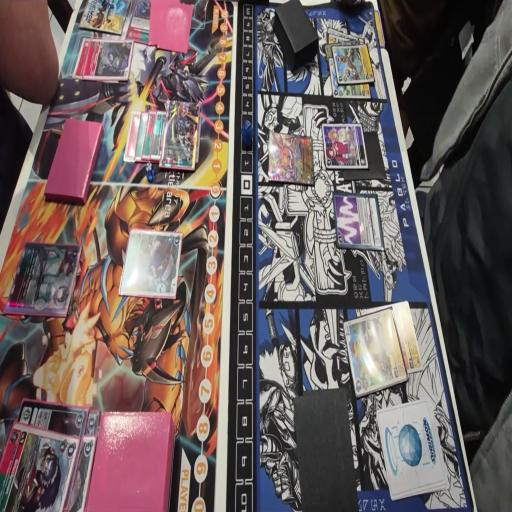card: (0, 422, 81, 511), (342, 306, 409, 400), (1, 246, 81, 316), (118, 233, 184, 297), (333, 193, 384, 251), (17, 398, 88, 438), (160, 99, 202, 165), (266, 129, 315, 184), (67, 434, 99, 512), (322, 122, 370, 171), (392, 299, 423, 372), (84, 42, 133, 79), (327, 61, 371, 101), (333, 43, 373, 84), (126, 0, 154, 43), (123, 110, 144, 166), (149, 108, 168, 162), (142, 109, 158, 159), (71, 38, 91, 77), (325, 40, 358, 62), (134, 111, 148, 162), (87, 404, 100, 438)
